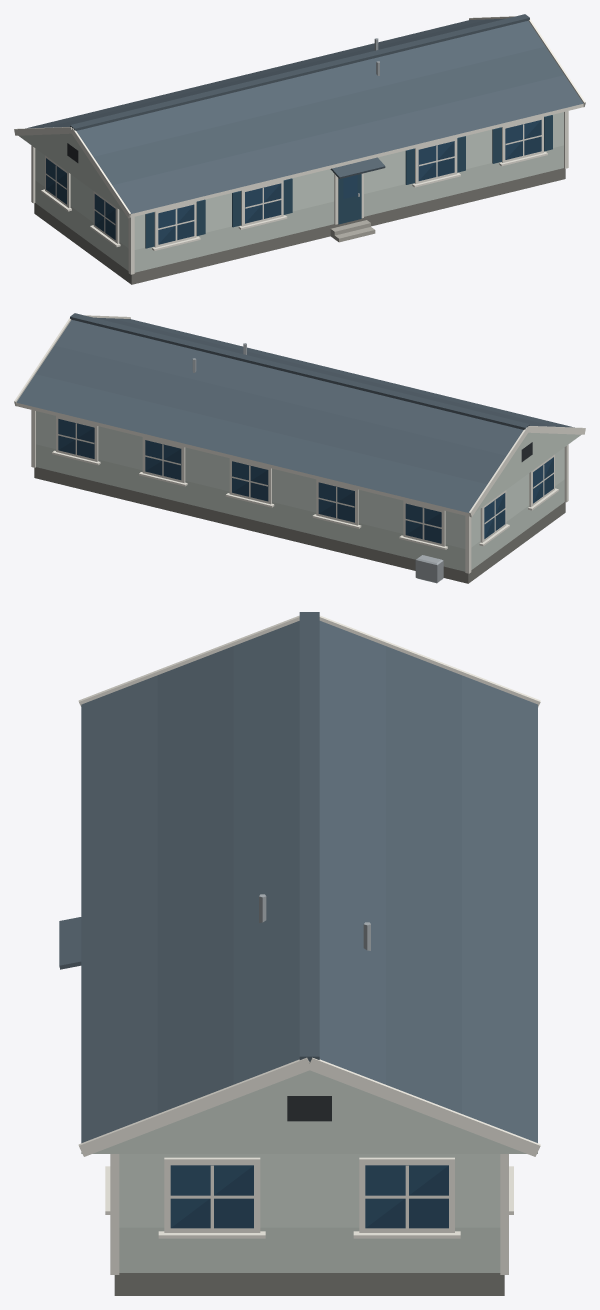
Rendered from house_18x7.glb.
The picture shows the model from 3 angles, top to bottom: view 1: azimuth 30°, elevation 25°; view 2: azimuth 150°, elevation 25°; view 3: azimuth 270°, elevation 25°; orthographic projection. The views are drawn at different scales.
Parts seen in each view (by area): view 1: house; view 2: house; view 3: house.
Part boxes in pixels (x1,y1,x2,y2): house: (14, 14, 585, 284); house: (14, 313, 585, 583); house: (59, 612, 540, 1295).
Bounding box in the file's own units: 18.93 × 5.02 × 8.64.
